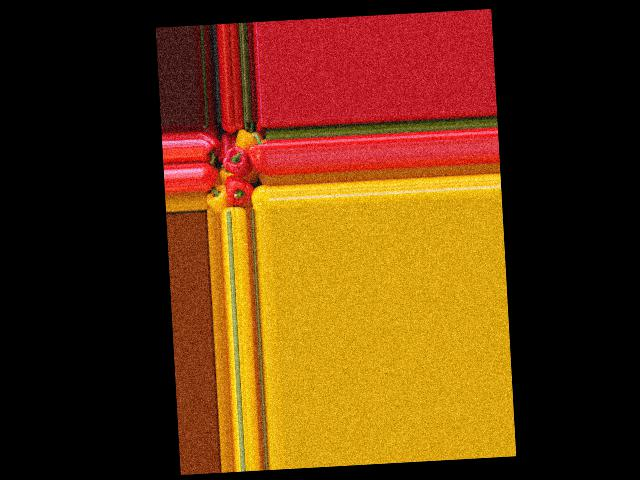bell_pepper: (207, 186, 231, 212)
